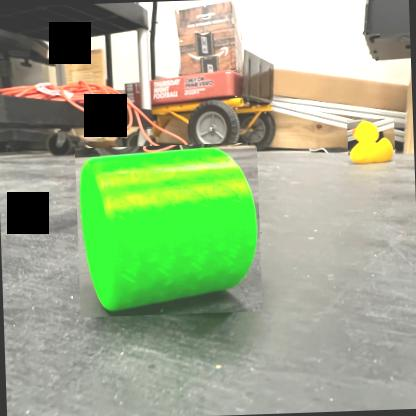duck: (347, 118, 396, 166)
green cylinder: (74, 142, 262, 318)
